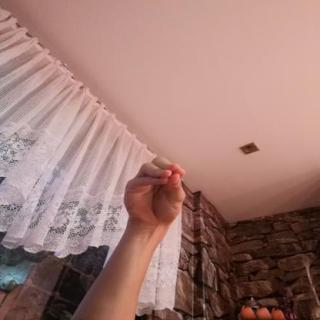HA: (112, 148, 199, 230)
